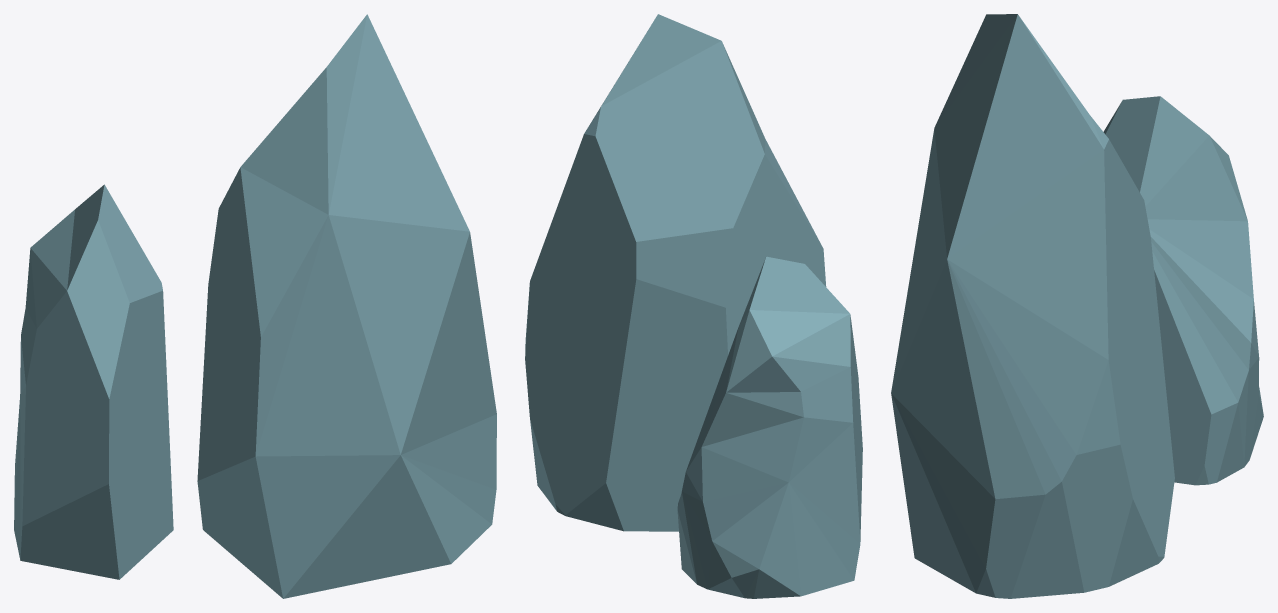
The model's file is ore.glb.
3 renders of one model, left to right at view 1: azimuth 30°, elevation 25°; view 2: azimuth 150°, elevation 25°; view 3: azimuth 270°, elevation 25°, orthographic. The views are drawn at different scales.
Parts seen in each view (by area): view 1: Icosphere.005; view 2: Icosphere.005; view 3: Icosphere.005.
Part boxes in pixels (x1=…): Icosphere.005: x1=14, y1=14, x2=496, y2=598; Icosphere.005: x1=525, y1=14, x2=862, y2=598; Icosphere.005: x1=891, y1=14, x2=1263, y2=598.
Size of the model in its own units: 0.5599 by 0.679 by 0.4325.
